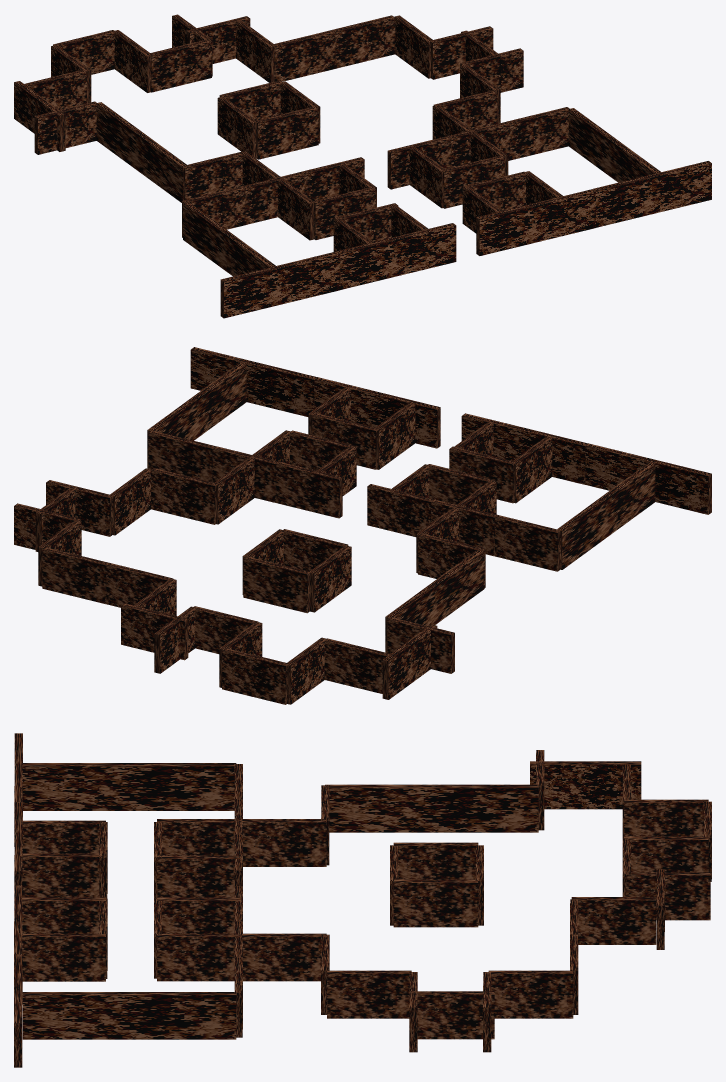
Rendered from Stage2Collision.fbx.
3 renders of one model, top to bottom at view 1: azimuth 30°, elevation 25°; view 2: azimuth 150°, elevation 25°; view 3: azimuth 270°, elevation 25°, orthographic. The views are drawn at different scales.
Visible parts, largest first — view 1: Cube.007, Cube.006, Cube.005, Cube.001, Cube.041, Cube.029, Cube.030, Cube.048, Cube.040, Cube.039, Cube.046, Cube.014 (+38 smaller); view 2: Cube.007, Cube.030, Cube.001, Cube.029, Cube.041, Cube.005, Cube.006, Cube.049, Cube.012, Cube.004, Cube.017, Cube.002 (+38 smaller); view 3: Cube.029, Cube.041, Cube.030, Cube.035, Cube.051, Cube.028, Cube.015, Cube.008, Cube.038, Cube.003, Cube.027, Cube.043 (+24 smaller).
Part boxes in pixels (x1,y1,x2,y2): Cube.007: [220, 251, 340, 318]; Cube.006: [476, 189, 595, 255]; Cube.005: [337, 223, 456, 289]; Cube.001: [592, 161, 711, 227]; Cube.041: [96, 102, 188, 202]; Cube.029: [568, 108, 660, 182]; Cube.030: [183, 202, 275, 276]; Cube.048: [256, 107, 318, 159]; Cube.040: [273, 30, 335, 81]; Cube.039: [332, 15, 395, 68]; Cube.046: [149, 39, 211, 92]; Cube.014: [507, 107, 569, 160]; Cube.007: [585, 443, 711, 514]; Cube.030: [556, 462, 655, 569]; Cube.001: [190, 347, 316, 416]; Cube.029: [147, 362, 246, 468]; Cube.041: [385, 548, 484, 652]; Cube.005: [461, 413, 588, 484]; Cube.006: [314, 377, 440, 448]; Cube.049: [243, 557, 309, 613]; Cube.012: [276, 462, 342, 518]; Cube.004: [222, 648, 288, 704]; Cube.017: [495, 515, 560, 571]; Cube.002: [151, 468, 217, 524]; Cube.029: [22, 992, 236, 1039]; Cube.041: [325, 784, 538, 832]; Cube.030: [22, 763, 236, 810]; Cube.035: [530, 761, 641, 809]; Cube.051: [393, 879, 478, 927]; Cube.028: [22, 933, 105, 981]; Cube.015: [327, 970, 411, 1018]; Cube.008: [242, 819, 326, 866]; Cube.038: [488, 970, 573, 1018]; Cube.003: [242, 933, 326, 981]; Cube.027: [157, 933, 241, 981]; Cube.043: [571, 897, 656, 944].
Size of the model in its own units: 83.87 by 6 by 85.3.
Materials: 49 (49 with a texture image).
